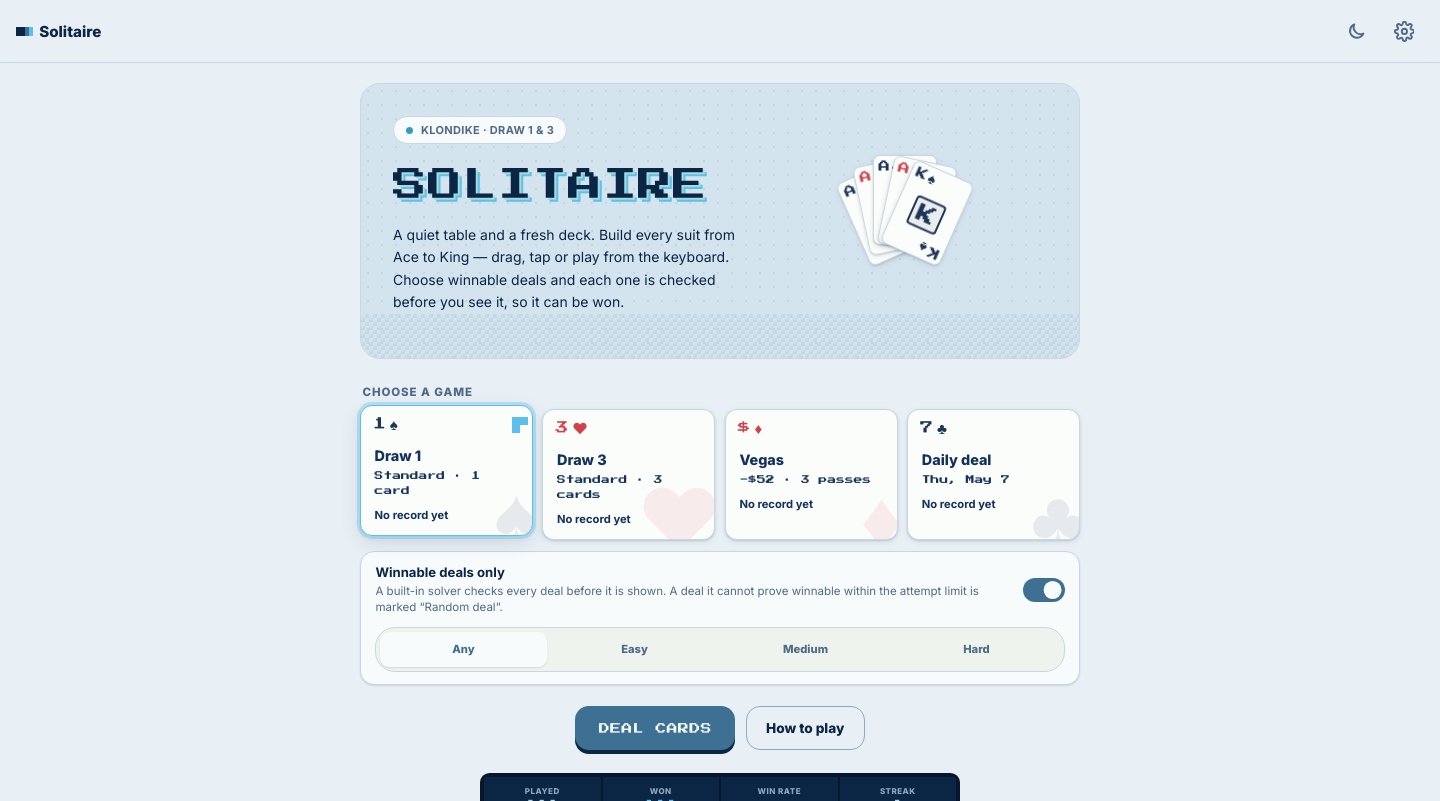
Test case: Home Winnable deals only switch › follows the selected tile
This screenshot has width=1440, height=801.
Click the radio button labelled "Vegas": (811, 474) [725, 408, 898, 540]
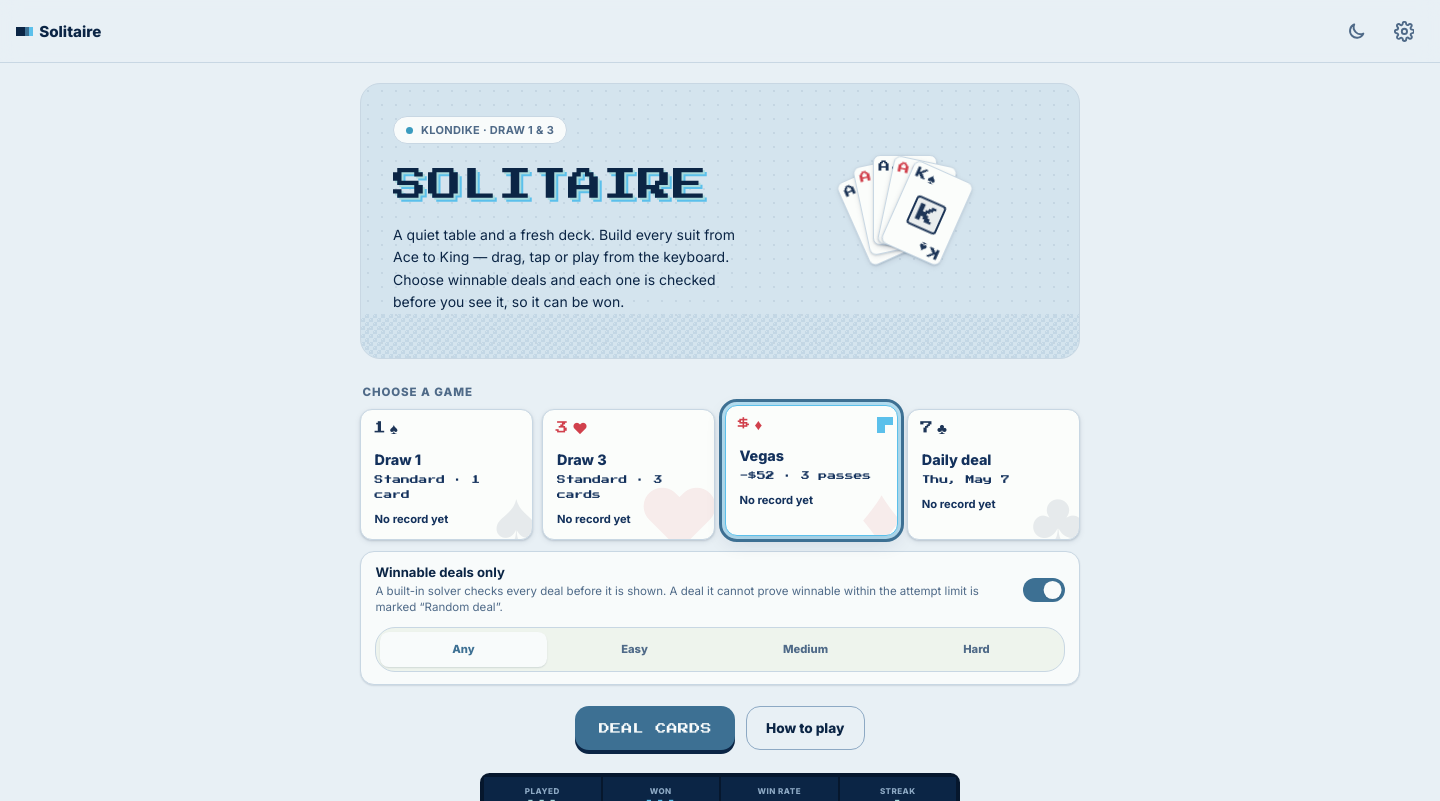
Expected: the switch named "Winnable deals only" is enabled, [1023, 578, 1065, 602]
Click the radio button labelled "Daily deal": (994, 474) [907, 408, 1080, 540]
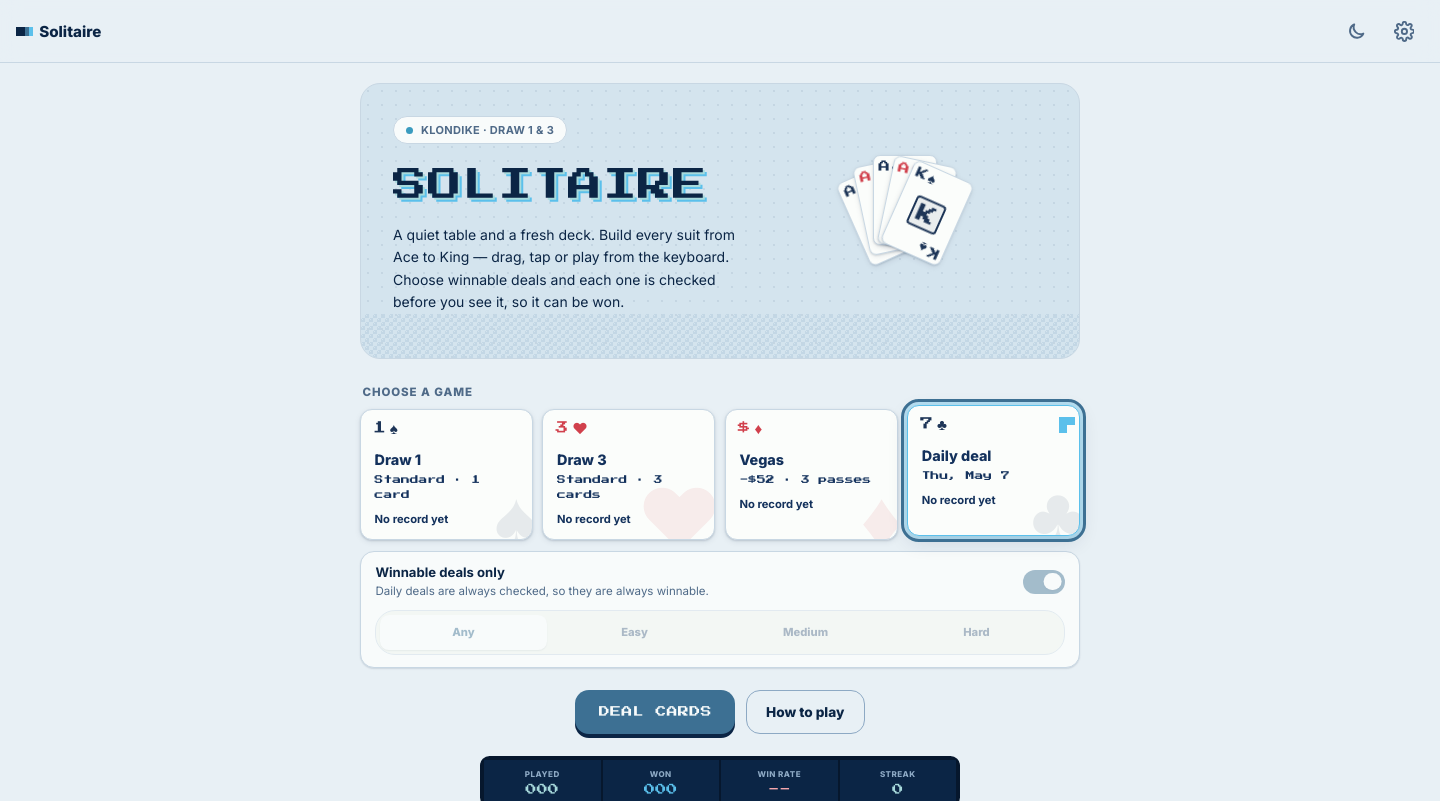
Expected: the switch named "Winnable deals only" is disabled, [1023, 570, 1065, 594]
Click the radio button labelled "Draw 1": (446, 474) [360, 408, 533, 540]
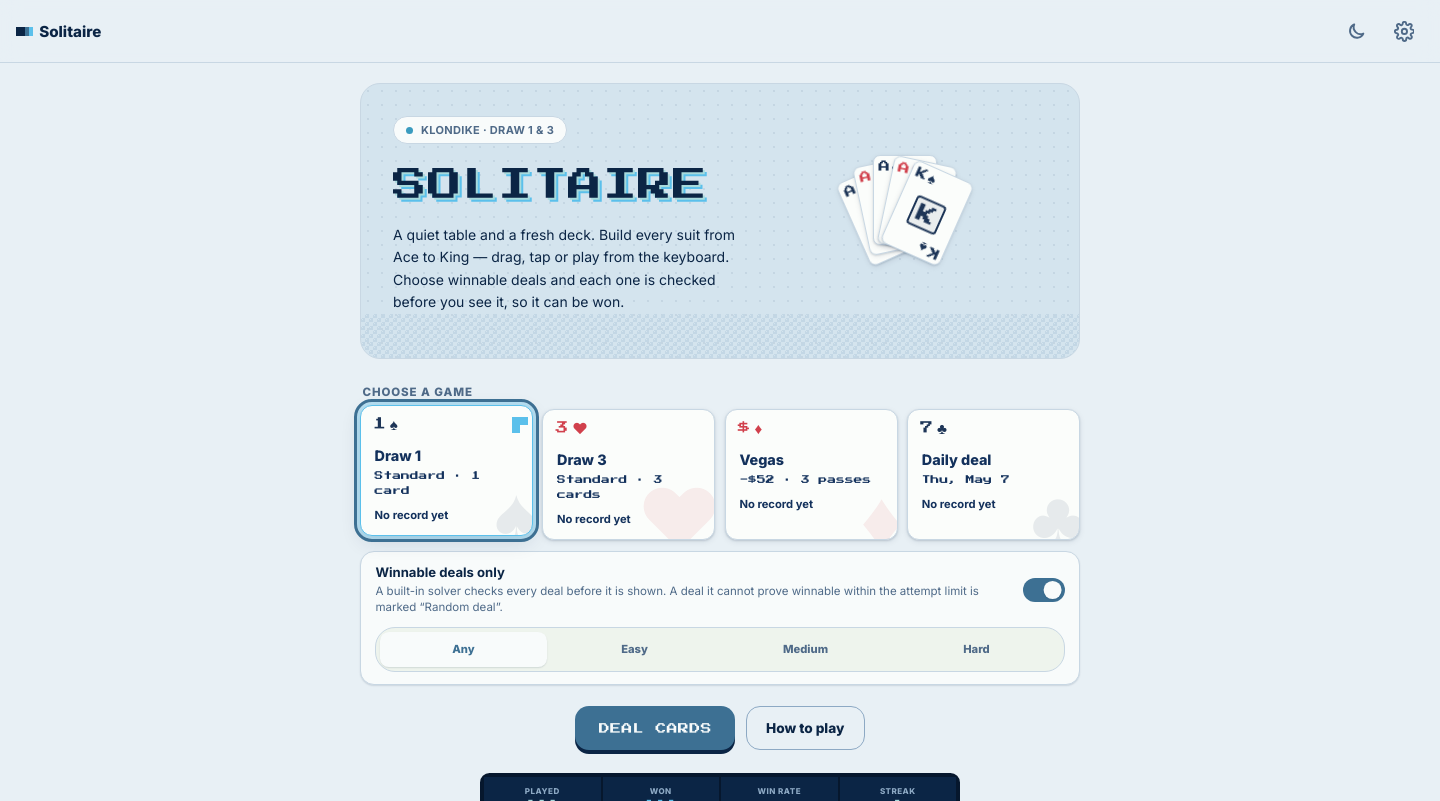
Expected: the switch named "Winnable deals only" is enabled, [1023, 578, 1065, 602]
